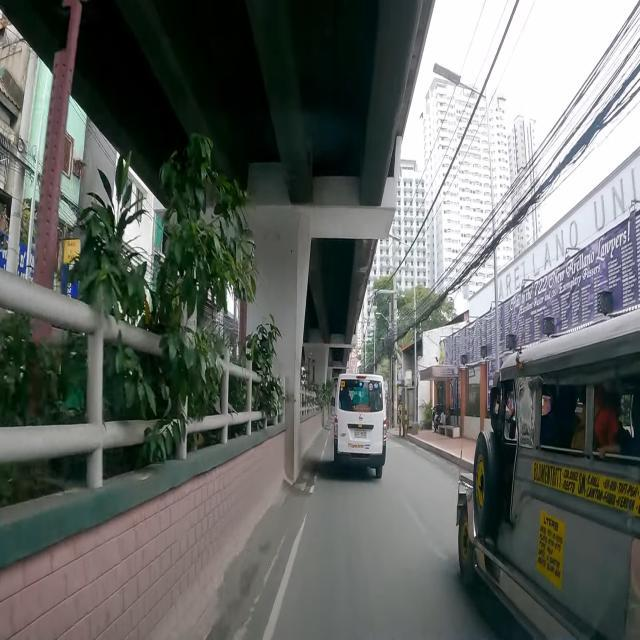car: (333, 374, 388, 478)
jeepney: (456, 310, 640, 640)
